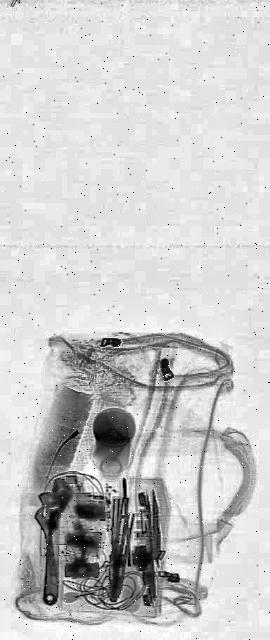Wrench: (30, 472, 74, 610)
